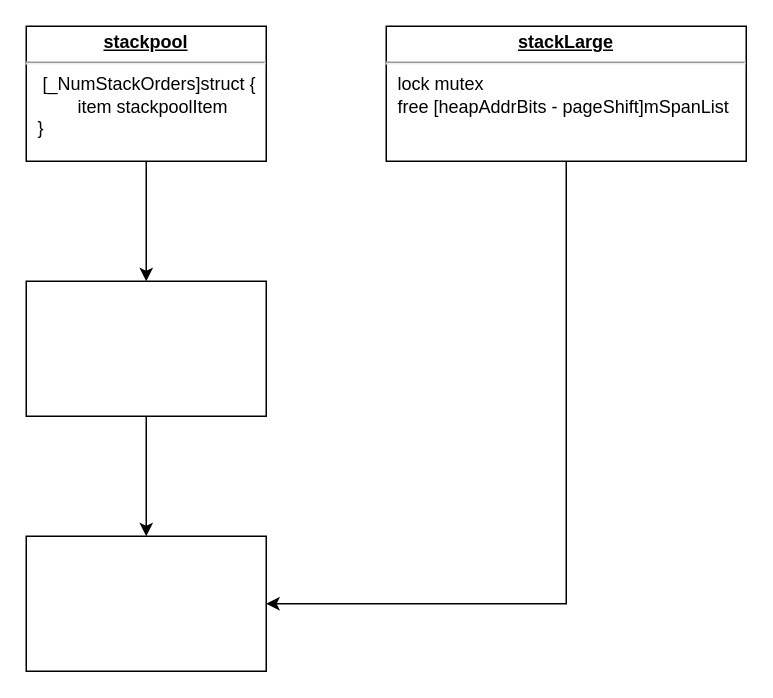
Some shapes in this 773 by 698 pixel diagram are drawn without their labels. The centre of each missing label's shape, as x and y in pixels:
"mSpanList first *mspan last *mspan" belongs at (145,603).
"stackpoolItem mu mutex span mSpanList" belongs at (145,348).
